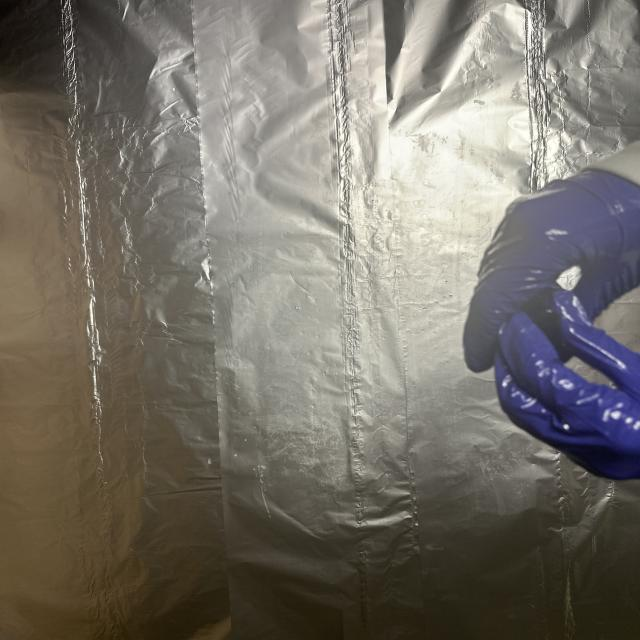gloves_contaminated: (463, 170, 640, 480)
